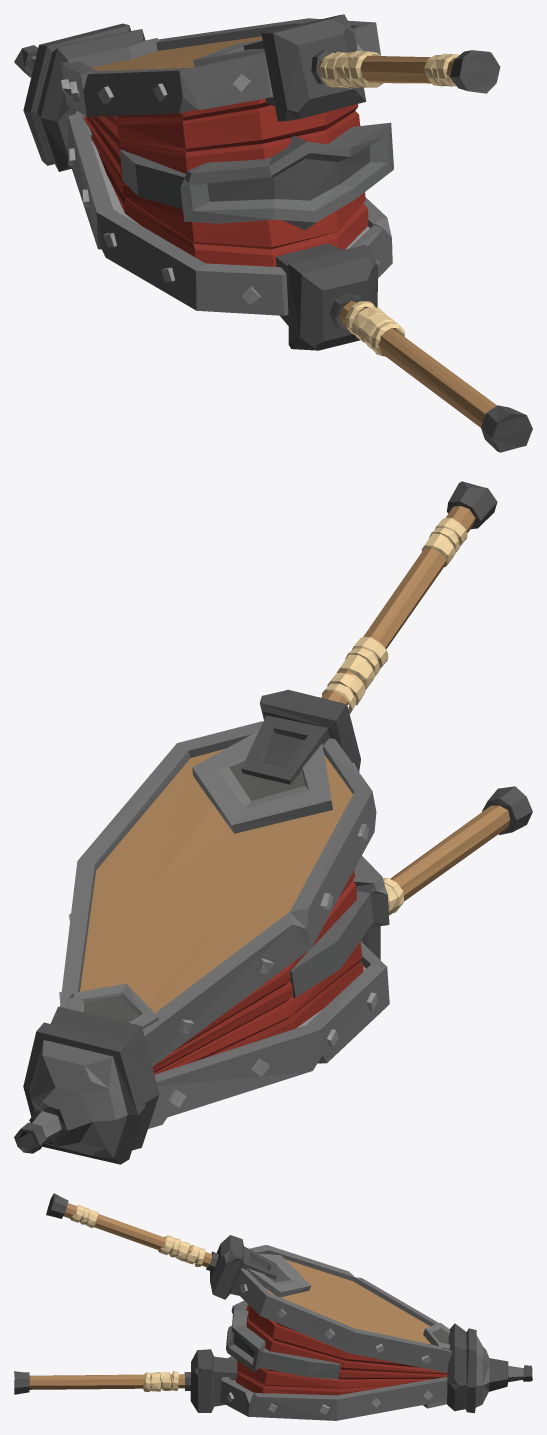
File: SFFA_Blower.fbx
3 renders of one model, top to bottom at view 1: azimuth 30°, elevation 25°; view 2: azimuth 150°, elevation 25°; view 3: azimuth 270°, elevation 25°, orthographic. The views are drawn at different scales.
Visible parts, largest first — view 1: SFFA_Blower; view 2: SFFA_Blower; view 3: SFFA_Blower.
Part boxes in pixels (box(x1,y1,x2,y2)): SFFA_Blower: box(14, 14, 532, 452); SFFA_Blower: box(14, 481, 532, 1164); SFFA_Blower: box(14, 1193, 532, 1420).
Size of the model in its own units: 33.88 by 54.15 by 123.
